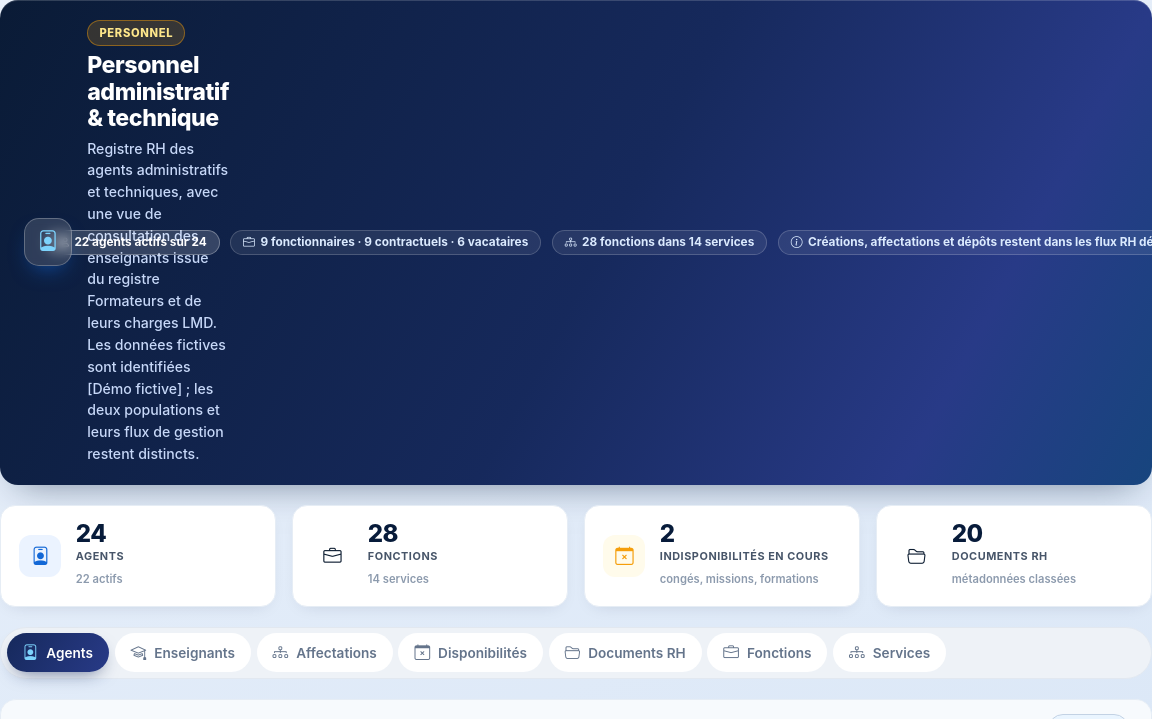
Test: Hub Personnel premium › bascule vers les disponibilités
Click the tab "Disponibilités": (471, 653) [398,633,543,672]
(page scrolled)
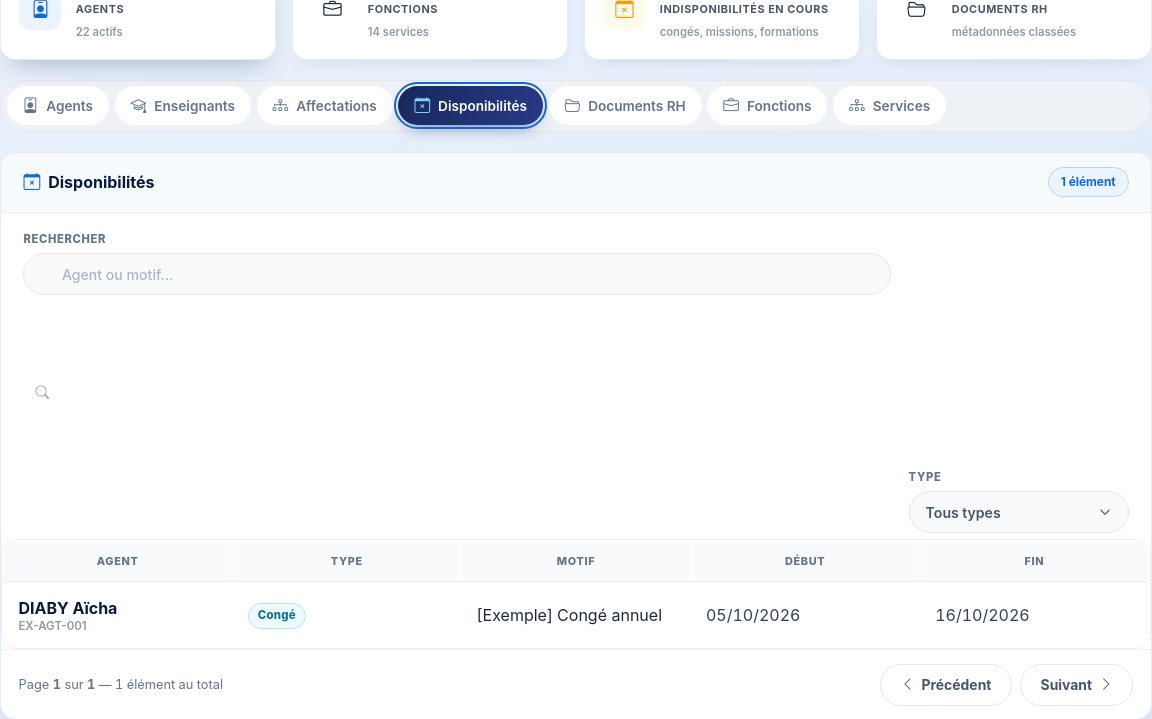
Check: the text "[Exemple] Congé annuel" is shown, box [477,605,662,626]
Check: the text "16/10/2026" is shown, box [935,605,1030,625]
